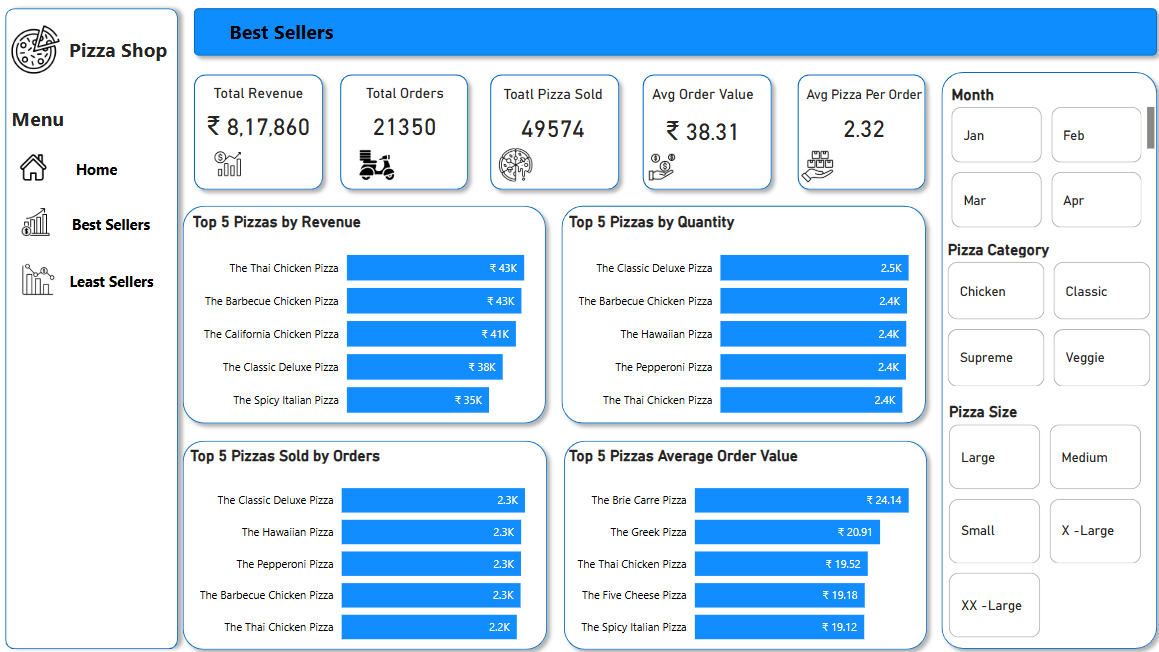

Layout of this report page (visuals, bound fields, positions):
{"tool":"powerbi","page":{"name":"Best Sellers","canvas":[1280,720],"ordinal":1},"visuals":[{"type":"shape","box":[207.1,0,1072.9,70],"z":0},{"type":"shape","box":[0,0,207.1,720],"z":1000},{"type":"shape","box":[194.9,473.4,417.2,247],"z":2000},{"type":"shape","box":[207.2,72.7,159.2,144.1],"z":3000},{"type":"shape","box":[194.9,216.8,415.8,256.6],"z":4000},{"type":"shape","box":[1025.7,70,254.3,650],"z":5000},{"type":"shape","box":[609.3,216.8,417.2,256.6],"z":6000},{"type":"shape","box":[612,473.4,415.8,247],"z":7000},{"type":"shape","box":[366.4,72.7,157.8,144.1],"z":8000},{"type":"shape","box":[531,72.7,159.2,144.1],"z":9000},{"type":"shape","box":[698.5,72.7,159.2,144.1],"z":10000},{"type":"shape","box":[868.6,72.7,157.8,144.1],"z":11000},{"type":"card","title":"Total Revenue","fields":{"Values":["pizza_sales.Total Revenue"]},"box":[207.2,93.3,159.2,76.8],"z":12000},{"type":"textbox","box":[142.9,15.7,338.6,50],"z":13000},{"type":"image","box":[219.6,160.5,67.2,38.4],"z":14000},{"type":"card","title":"Total Orders","fields":{"Values":["pizza_sales.Total Orders"]},"box":[377.4,93.3,137.2,76.8],"z":15000},{"type":"card","title":"Toatl Pizza Sold","fields":{"Values":["pizza_sales.Total Pizzas Sold"]},"box":[509.1,94.7,199,79.6],"z":16000},{"type":"card","title":"Avg Order Value","fields":{"Values":["pizza_sales.Average Order Value"]},"box":[698.5,94.7,149.6,85.1],"z":17000},{"type":"card","title":"Avg Pizza Per Order","fields":{"Values":["pizza_sales.Avg Pizzas Per Order"]},"box":[874.1,94.7,152.3,79.6],"z":18000},{"type":"image","box":[874.1,160.5,49.4,45.3],"z":19000},{"type":"image","box":[708.1,160.5,41.2,45.3],"z":20000},{"type":"image","box":[388.3,152.3,54.9,57.6],"z":21000},{"type":"image","box":[544.8,157.8,46.7,46.7],"z":22000},{"type":"image","box":[11.4,15.7,62.9,78.6],"z":23000},{"type":"image","box":[20,160,38.6,45.7],"z":24000},{"type":"image","box":[15.7,222.9,54.3,40],"z":25000},{"type":"image","box":[20,278.6,50,55.7],"z":26000},{"type":"advancedSlicerVisual","title":"Pizza Category","fields":{"Values":["pizza_sales.pizza_category"]},"box":[1037.1,262.9,232.9,165.7],"z":27000},{"type":"advancedSlicerVisual","title":"Pizza Size","fields":{"Values":["pizza_sales.Pizza Size Full"]},"box":[1038.6,441.4,220,264.3],"z":28000},{"type":"actionButton","title":"HOME","box":[74.3,217.1,101.4,55.7],"z":29000},{"type":"textbox","box":[74.3,34.3,135.7,42.9],"z":30000},{"type":"textbox","box":[11.4,110,94.3,42.9],"z":31000},{"type":"actionButton","box":[75.7,287.1,100,40],"z":32000},{"type":"actionButton","box":[58.6,164.3,100,40],"z":33000},{"type":"barChart","title":"Top 5 Pizzas by Revenue","fields":{"Category":["pizza_sales.pizza_name"],"Y":["pizza_sales.Total Revenue"]},"box":[210,232.9,430,240],"z":34000},{"type":"barChart","title":"Top 5 Pizzas by Quantity","fields":{"Category":["pizza_sales.pizza_name"],"Y":["pizza_sales.Total Pizzas Sold"]},"box":[621.4,232.9,405.7,240],"z":35000},{"type":"barChart","title":"Top 5 Pizzas Sold by Orders","fields":{"Category":["pizza_sales.pizza_name"],"Y":["pizza_sales.Total Orders"]},"box":[207.1,488.6,401.4,231.4],"z":36000},{"type":"barChart","title":"Top 5 Pizzas Average Order Value","fields":{"Category":["pizza_sales.pizza_name"],"Y":["pizza_sales.Average Order Value"]},"box":[621.4,488.6,430,231.4],"z":37000},{"type":"advancedSlicerVisual","title":"Month","fields":{"Values":["pizza_sales.Month_Short"]},"box":[1040.7,89,228.7,162.9],"z":38000}]}

Visuals, with their boxes on the page's 1280x720 design canvas (x1, y1, x2, y2). These are canvas units, not pixel positions in the 1159x652 screenshot, which may show the page scaled, cropped or inside an application window:
shape: [x1=207, y1=0, x2=1280, y2=70]
shape: [x1=0, y1=0, x2=207, y2=720]
shape: [x1=195, y1=473, x2=612, y2=720]
shape: [x1=207, y1=73, x2=366, y2=217]
shape: [x1=195, y1=217, x2=611, y2=473]
shape: [x1=1026, y1=70, x2=1280, y2=720]
shape: [x1=609, y1=217, x2=1026, y2=473]
shape: [x1=612, y1=473, x2=1028, y2=720]
shape: [x1=366, y1=73, x2=524, y2=217]
shape: [x1=531, y1=73, x2=690, y2=217]
shape: [x1=698, y1=73, x2=858, y2=217]
shape: [x1=869, y1=73, x2=1026, y2=217]
"Total Revenue" card: [x1=207, y1=93, x2=366, y2=170]
textbox: [x1=143, y1=16, x2=482, y2=66]
image: [x1=220, y1=160, x2=287, y2=199]
"Total Orders" card: [x1=377, y1=93, x2=515, y2=170]
"Toatl Pizza Sold" card: [x1=509, y1=95, x2=708, y2=174]
"Avg Order Value" card: [x1=698, y1=95, x2=848, y2=180]
"Avg Pizza Per Order" card: [x1=874, y1=95, x2=1026, y2=174]
image: [x1=874, y1=160, x2=924, y2=206]
image: [x1=708, y1=160, x2=749, y2=206]
image: [x1=388, y1=152, x2=443, y2=210]
image: [x1=545, y1=158, x2=592, y2=204]
image: [x1=11, y1=16, x2=74, y2=94]
image: [x1=20, y1=160, x2=59, y2=206]
image: [x1=16, y1=223, x2=70, y2=263]
image: [x1=20, y1=279, x2=70, y2=334]
"Pizza Category" advancedSlicerVisual: [x1=1037, y1=263, x2=1270, y2=429]
"Pizza Size" advancedSlicerVisual: [x1=1039, y1=441, x2=1259, y2=706]
"HOME" actionButton: [x1=74, y1=217, x2=176, y2=273]
textbox: [x1=74, y1=34, x2=210, y2=77]
textbox: [x1=11, y1=110, x2=106, y2=153]
actionButton: [x1=76, y1=287, x2=176, y2=327]
actionButton: [x1=59, y1=164, x2=159, y2=204]
"Top 5 Pizzas by Revenue" barChart: [x1=210, y1=233, x2=640, y2=473]
"Top 5 Pizzas by Quantity" barChart: [x1=621, y1=233, x2=1027, y2=473]
"Top 5 Pizzas Sold by Orders" barChart: [x1=207, y1=489, x2=608, y2=720]
"Top 5 Pizzas Average Order Value" barChart: [x1=621, y1=489, x2=1051, y2=720]
"Month" advancedSlicerVisual: [x1=1041, y1=89, x2=1269, y2=252]
